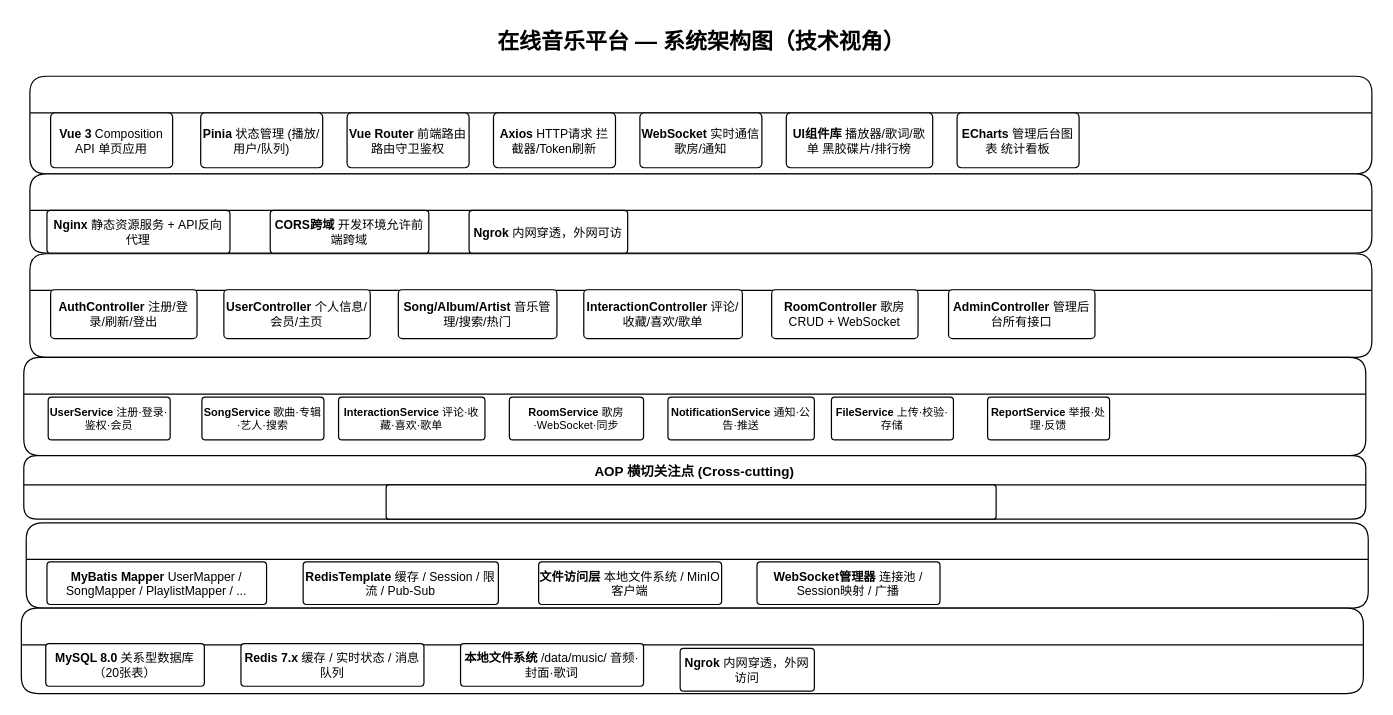
Some shapes in this 1393 by 715 pixel diagram are drawn without their labels. The box of each missing label's shape, as (x1, y1, x2, y2) in pixels:
1. 展示层 (Presentation): (29, 75, 1372, 174)
2. 网关与反向代理 (Gateway): (29, 173, 1372, 253)
3. 控制层 (Controller) — Spring Boot REST API: (29, 253, 1372, 357)
4. 业务层 (Service): (23, 356, 1366, 456)
5. 数据访问层 (DAO & Mapper): (25, 522, 1368, 608)
6. 持久层 & 基础设施 (Persistence & Infrastructure): (20, 607, 1363, 694)
@RateLimit 限流 | @OperationLog 审计 | JwtInterceptor 鉴权 | XSS Filter 过滤: (385, 484, 996, 519)
